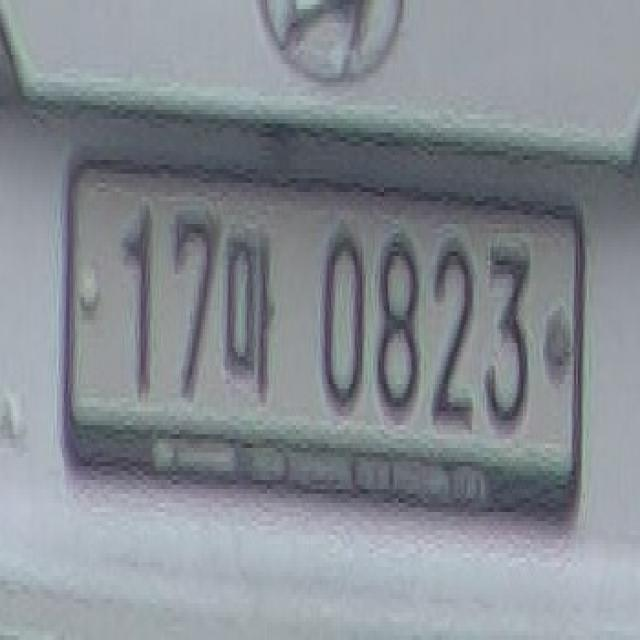0: (316, 215, 369, 420)
1: (119, 196, 155, 412)
2: (430, 229, 477, 434)
3: (486, 242, 530, 439)
7: (166, 196, 222, 412)
8: (373, 224, 421, 430)
license_plate: (51, 146, 585, 572)
ma: (223, 215, 276, 407)
